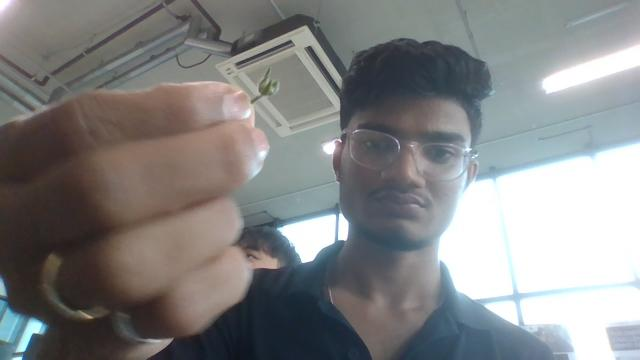Fruit Bud: (258, 78, 280, 98), (259, 67, 272, 90)
